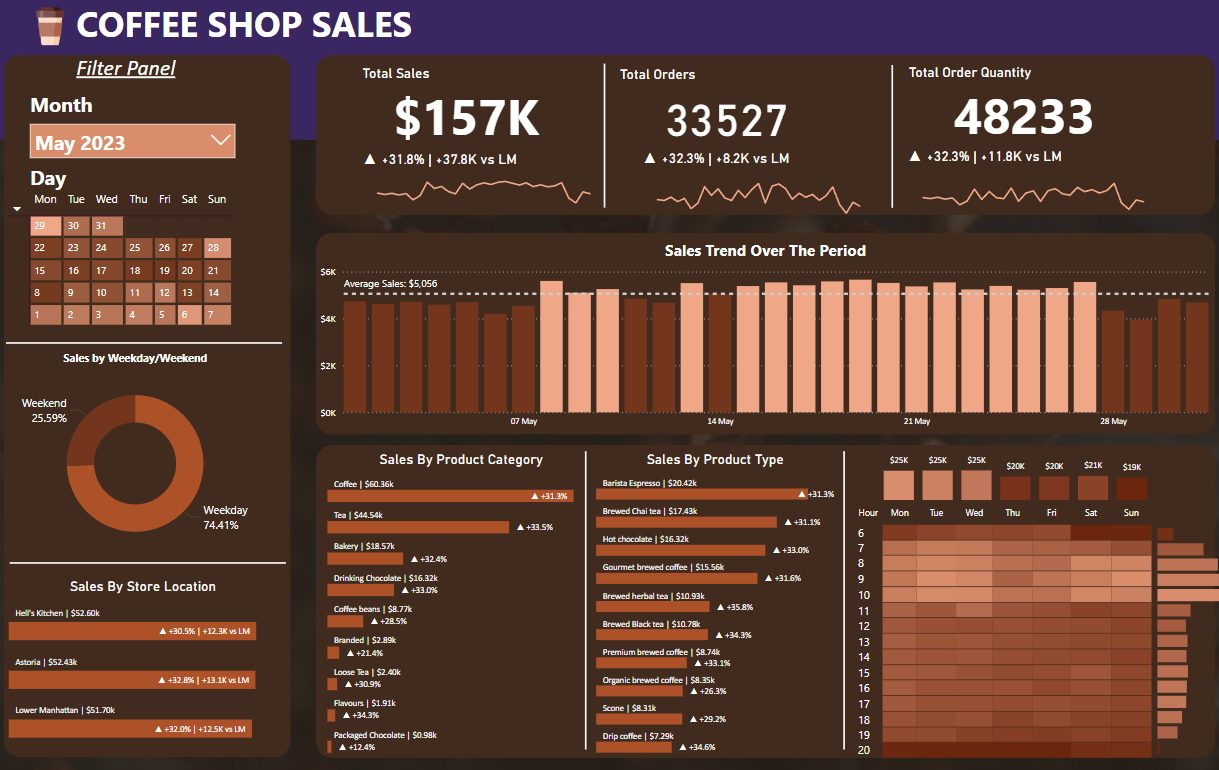

This screenshot's page, from the dashboard's own definition file:
{"tool":"powerbi","page":{"name":"dashboard","canvas":[1500,950],"ordinal":0},"visuals":[{"type":"pivotTable","title":" ","fields":{"Rows":["DATE TABLE.week no."],"Columns":["DATE TABLE.Day Name"],"Values":["Min(DATE TABLE.day no.)"]},"box":[11.4,231.4,286.3,205.1],"z":0,"group":"g4"},{"type":"shape","box":[390,548.3,1096.7,381.7],"z":0},{"type":"shape","box":[0,0,1499.5,176.7],"z":1000},{"type":"shape","box":[9.6,73.2,350.2,856.4],"z":2000},{"type":"shape","box":[390,73.3,1096.7,195],"z":3000},{"type":"textbox","box":[93.8,0,610,73.8],"z":4000},{"type":"group","id":"g1","title":"Group 1","box":[418.7,84.4,331.1,187.8],"z":5000},{"type":"lineChart","fields":{"Y":["Transactions.total orders"],"Category":["DATE TABLE.DATE.Variation.Date Hierarchy.Day"]},"box":[816.9,184.7,317.9,85.6],"z":5000,"group":"g3"},{"type":"lineChart","fields":{"Y":["Transactions.TOTAL SALES"],"Category":["DATE TABLE.DATE.Variation.Date Hierarchy.Day"]},"box":[419.2,188.1,332,85.6],"z":5000,"group":"g1"},{"type":"lineChart","fields":{"Category":["DATE TABLE.DATE.Variation.Date Hierarchy.Day"],"Y":["Transactions.Total Quantity Sold"]},"box":[1154.1,188.5,343.8,85.6],"z":5000,"group":"g2"},{"type":"card","title":"Total Sales","fields":{"Values":["Sum(Transactions.Sales)"]},"box":[418.7,84.4,262.6,100.3],"z":6000,"group":"g1"},{"type":"card","title":"Total Orders","fields":{"Values":["Transactions.total orders"]},"box":[789.5,84.4,270.7,100.3],"z":6000,"group":"g3"},{"type":"group","id":"g2","title":"Group 1","box":[1154.1,86,345.4,187.8],"z":6000},{"type":"card","title":"Total Order Quantity","fields":{"Values":["Transactions.Total Quantity Sold"]},"box":[1155.1,86,292.8,100.3],"z":6000,"group":"g2"},{"type":"group","id":"g3","title":"Group 1","box":[789.5,84.4,345.4,186.2],"z":7000},{"type":"slicer","fields":{"Values":["DATE TABLE.MONTH YEAR"]},"box":[37.1,152.9,260,50],"z":8000},{"type":"group","id":"g4","title":"Group 2","box":[11.4,231.4,287.1,205.7],"z":9000},{"type":"shape","box":[11.7,418.3,336.7,13.3],"z":10000},{"type":"donutChart","title":"Sales by Weekday/Weekend","fields":{"Category":["DATE TABLE.week day / weekend"],"Y":["Transactions.Total Sales"]},"box":[11.1,433,318.4,259.5],"z":11000},{"type":"clusteredBarChart","title":"Sales By Store Location","fields":{"Category":["Transactions.store_location"],"Y":["Transactions.place holder","Transactions.Total Sales"]},"box":[11.1,710,337.5,203.8],"z":12000},{"type":"shape","box":[390,290,1096.7,246.7],"z":13000},{"type":"columnChart","title":"Sales Trend Over The Period","fields":{"Category":["Transactions.transaction_date"],"Y":["Transactions.Total Sales"]},"box":[390,298.3,1096.7,238.3],"z":14000},{"type":"clusteredBarChart","title":"Sales By Product Category","fields":{"Y":["Transactions.place holder","Transactions.Total Sales"],"Category":["Transactions.product_category"]},"box":[398.8,556.2,336.2,373.8],"z":15000},{"type":"clusteredBarChart","title":"Sales By Product Type","fields":{"Y":["Transactions.place holder","Transactions.Total Sales"],"Category":["Transactions.product_type"]},"box":[726.7,556.7,300,373.3],"z":16000},{"type":"pivotTable","fields":{"Rows":["Transactions.hour"],"Columns":["DATE TABLE.Day Name"],"Values":["Transactions.Total Sales"]},"box":[1041.7,618.3,381.7,330],"z":17000},{"type":"clusteredBarChart","fields":{"Category":["Transactions.hour"],"Y":["Transactions.Total Sales"]},"box":[1411.7,636.7,88.3,293.3],"z":18000},{"type":"clusteredColumnChart","title":"Sales by Day | Hour","fields":{"Y":["Transactions.Total Sales"],"Category":["DATE TABLE.Day Name"]},"box":[1077.8,548.9,332.2,73.3],"z":19000},{"type":"textbox","box":[37.1,112.9,110,42.9],"z":20000},{"type":"shape","box":[16.7,686.7,336.7,13.3],"z":21000},{"type":"textbox","box":[92.9,67.1,237.1,51.4],"z":22000},{"type":"shape","box":[749.8,89.1,14.3,175.1],"z":23000},{"type":"shape","box":[1120.6,89.1,14.3,173.5],"z":24000},{"type":"shape","box":[711.8,556.4,14.5,363.6],"z":25000},{"type":"shape","box":[1028.2,556.4,13.6,363.6],"z":26000},{"type":"image","box":[37.5,7.5,56.2,60],"z":27000},{"type":"textbox","box":[37.1,201.4,82.9,48.6],"z":28000}]}

Visuals, with their boxes in screenshot pixels (x1, y1, x2, y2), scaled from the page's 1500x950 canvas onto the 1219x770 screenshot:
" " pivotTable: Rect(9, 188, 242, 354)
shape: Rect(317, 444, 1208, 754)
shape: Rect(0, 0, 1218, 143)
shape: Rect(8, 59, 292, 753)
shape: Rect(317, 59, 1208, 217)
textbox: Rect(76, 0, 572, 60)
"Group 1" group: Rect(340, 68, 609, 221)
lineChart - Transactions.total orders x DATE TABLE.DATE.Variation.Date Hierarchy.Day: Rect(664, 150, 922, 219)
lineChart - Transactions.TOTAL SALES x DATE TABLE.DATE.Variation.Date Hierarchy.Day: Rect(341, 152, 610, 222)
lineChart - DATE TABLE.DATE.Variation.Date Hierarchy.Day x Transactions.Total Quantity Sold: Rect(938, 153, 1217, 222)
"Total Sales" card: Rect(340, 68, 554, 150)
"Total Orders" card: Rect(642, 68, 862, 150)
"Group 1" group: Rect(938, 70, 1218, 222)
"Total Order Quantity" card: Rect(939, 70, 1177, 151)
"Group 1" group: Rect(642, 68, 922, 219)
slicer - DATE TABLE.MONTH YEAR: Rect(30, 124, 241, 164)
"Group 2" group: Rect(9, 188, 243, 354)
shape: Rect(10, 339, 283, 350)
"Sales by Weekday/Weekend" donutChart: Rect(9, 351, 268, 561)
"Sales By Store Location" clusteredBarChart: Rect(9, 575, 283, 741)
shape: Rect(317, 235, 1208, 435)
"Sales Trend Over The Period" columnChart: Rect(317, 242, 1208, 435)
"Sales By Product Category" clusteredBarChart: Rect(324, 451, 597, 754)
"Sales By Product Type" clusteredBarChart: Rect(591, 451, 834, 754)
pivotTable - Transactions.hour x DATE TABLE.Day Name: Rect(847, 501, 1157, 769)
clusteredBarChart - Transactions.hour x Transactions.Total Sales: Rect(1147, 516, 1218, 754)
"Sales by Day | Hour" clusteredColumnChart: Rect(876, 445, 1146, 504)
textbox: Rect(30, 92, 120, 126)
shape: Rect(14, 557, 287, 567)
textbox: Rect(75, 54, 268, 96)
shape: Rect(609, 72, 621, 214)
shape: Rect(911, 72, 922, 213)
shape: Rect(578, 451, 590, 746)
shape: Rect(836, 451, 847, 746)
image: Rect(30, 6, 76, 55)
textbox: Rect(30, 163, 98, 203)
